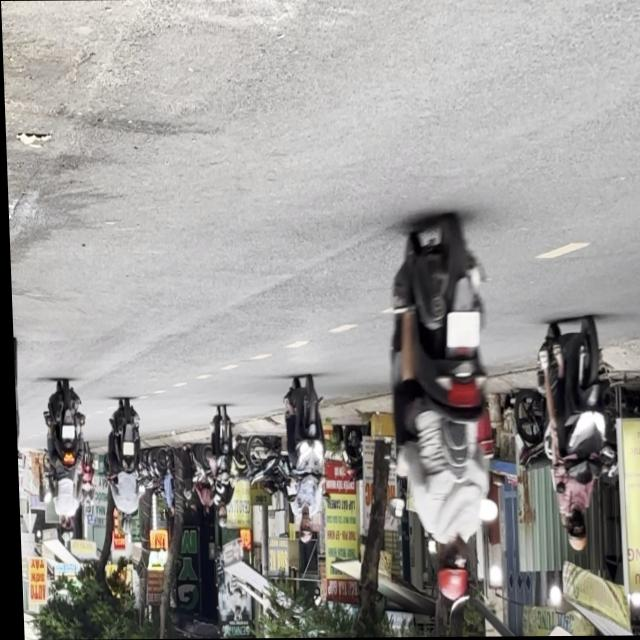helmet: (430, 538, 469, 603), (563, 515, 584, 553), (295, 514, 309, 544)
licenseplate: (378, 215, 499, 606), (531, 315, 614, 553), (276, 372, 327, 546)
nohelmet: (442, 312, 477, 348)
